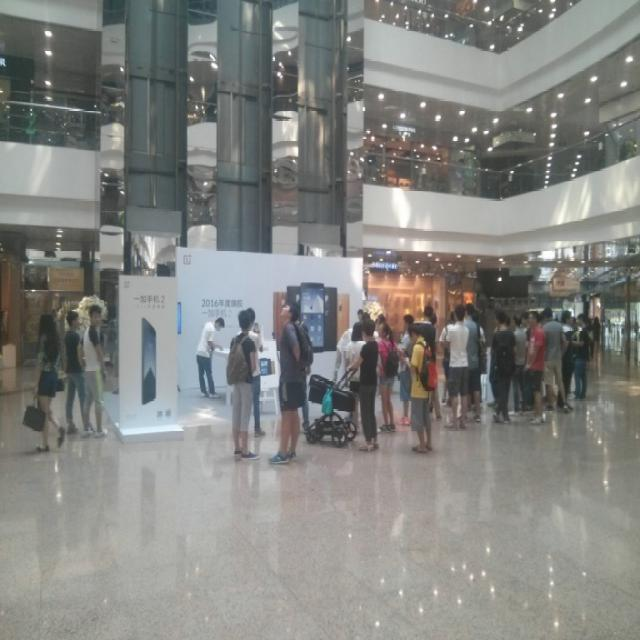10-: (24, 263, 613, 458)
